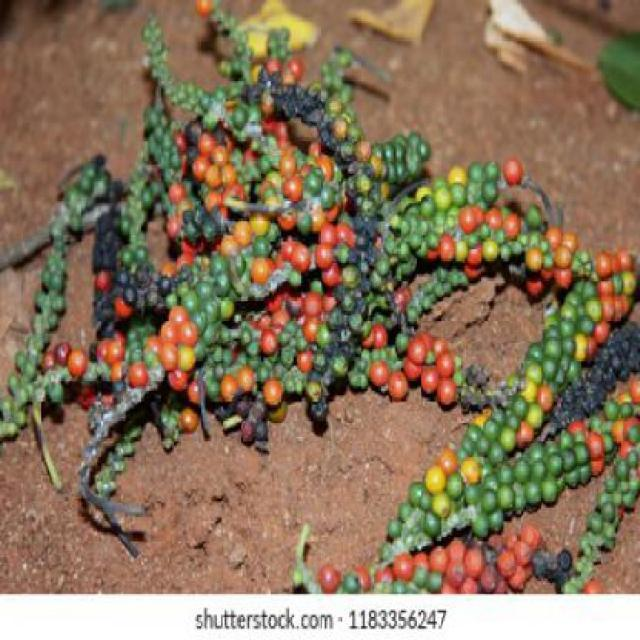RIPE: (540, 222, 623, 323), (400, 537, 537, 589), (260, 233, 326, 330)
UNRIPE: (31, 169, 68, 443)
